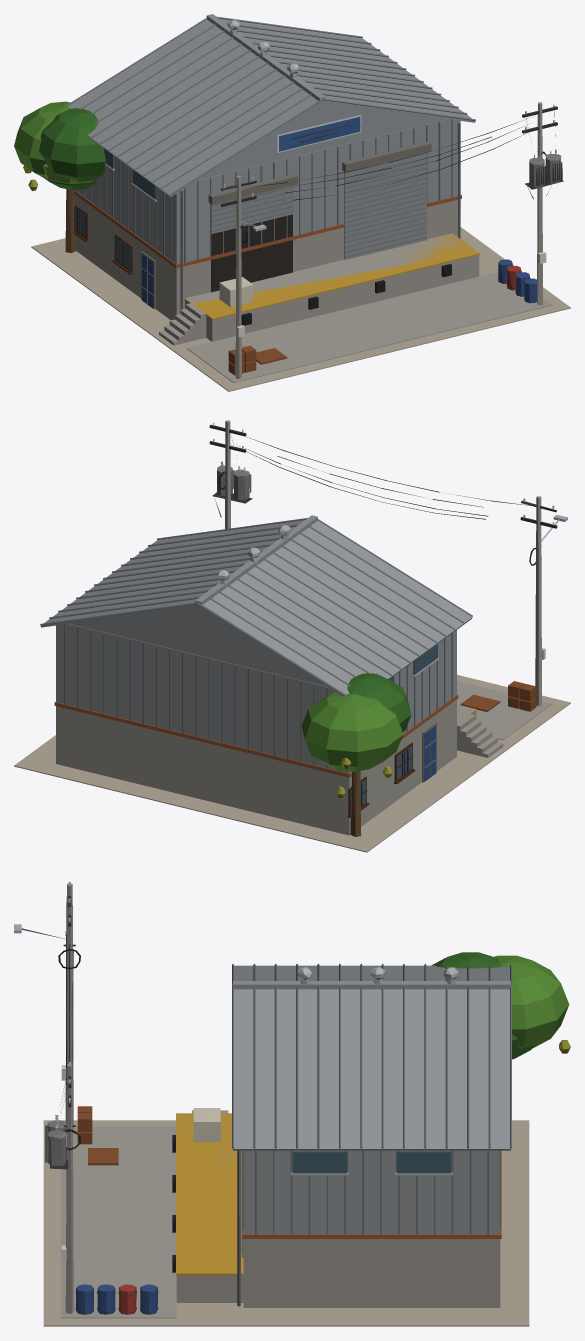
The model's file is factory_2.glb.
3 views of the same model, one above another, from view 1: azimuth 30°, elevation 25°; view 2: azimuth 150°, elevation 25°; view 3: azimuth 270°, elevation 25° (orthographic). The views are drawn at different scales.
Parts seen in each view (by area): view 1: body, windows; view 2: body, windows; view 3: body, windows.
Part boxes in pixels (x1,y1,x2,y2): body: [14, 14, 570, 391]; windows: [74, 148, 292, 292]; body: [14, 420, 570, 852]; windows: [350, 644, 437, 813]; body: [14, 881, 570, 1326]; windows: [292, 1151, 451, 1173].
Size of the model in its own units: 16.75 by 9.29 by 18.24.
